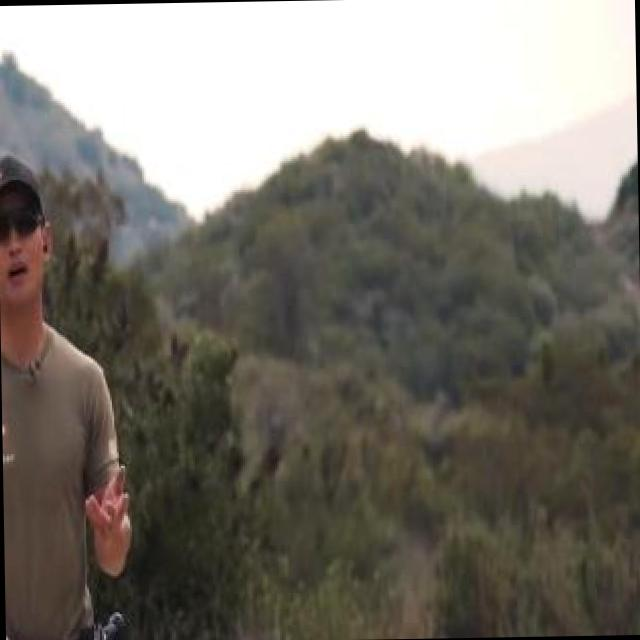Guns: (59, 603, 136, 640)
